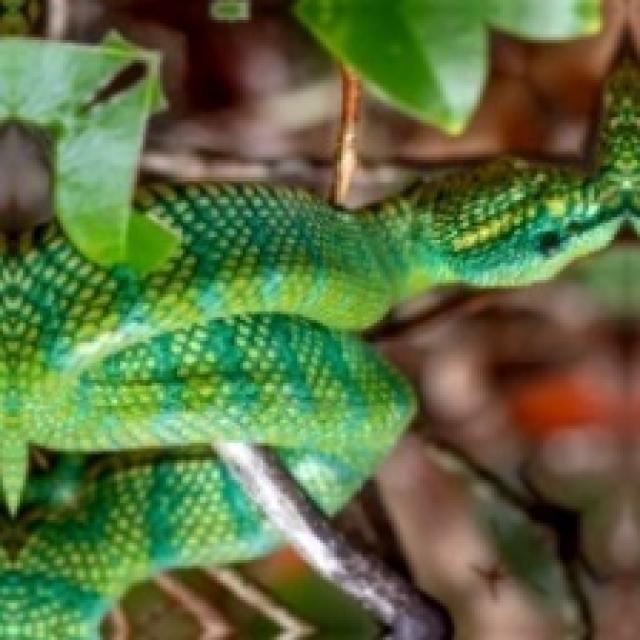north ph temple pitviper: (0, 40, 637, 637)
